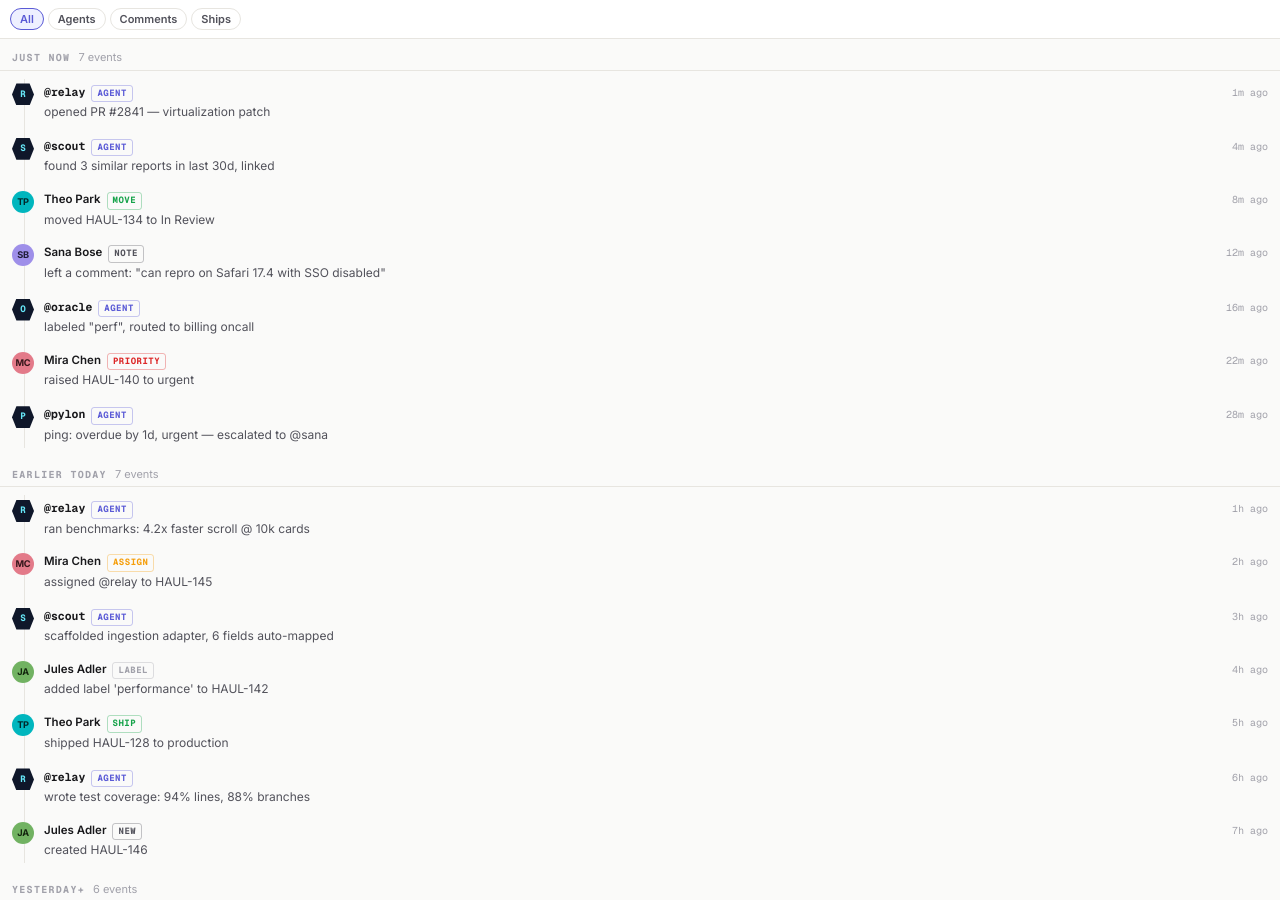
Test case: ActivityRail › filtering by "Ships" hides AGENT-kind events from view
This screenshot has width=1280, height=900.
Click the button "Ships": (216, 19) x1=191 y1=8 x2=241 y2=30
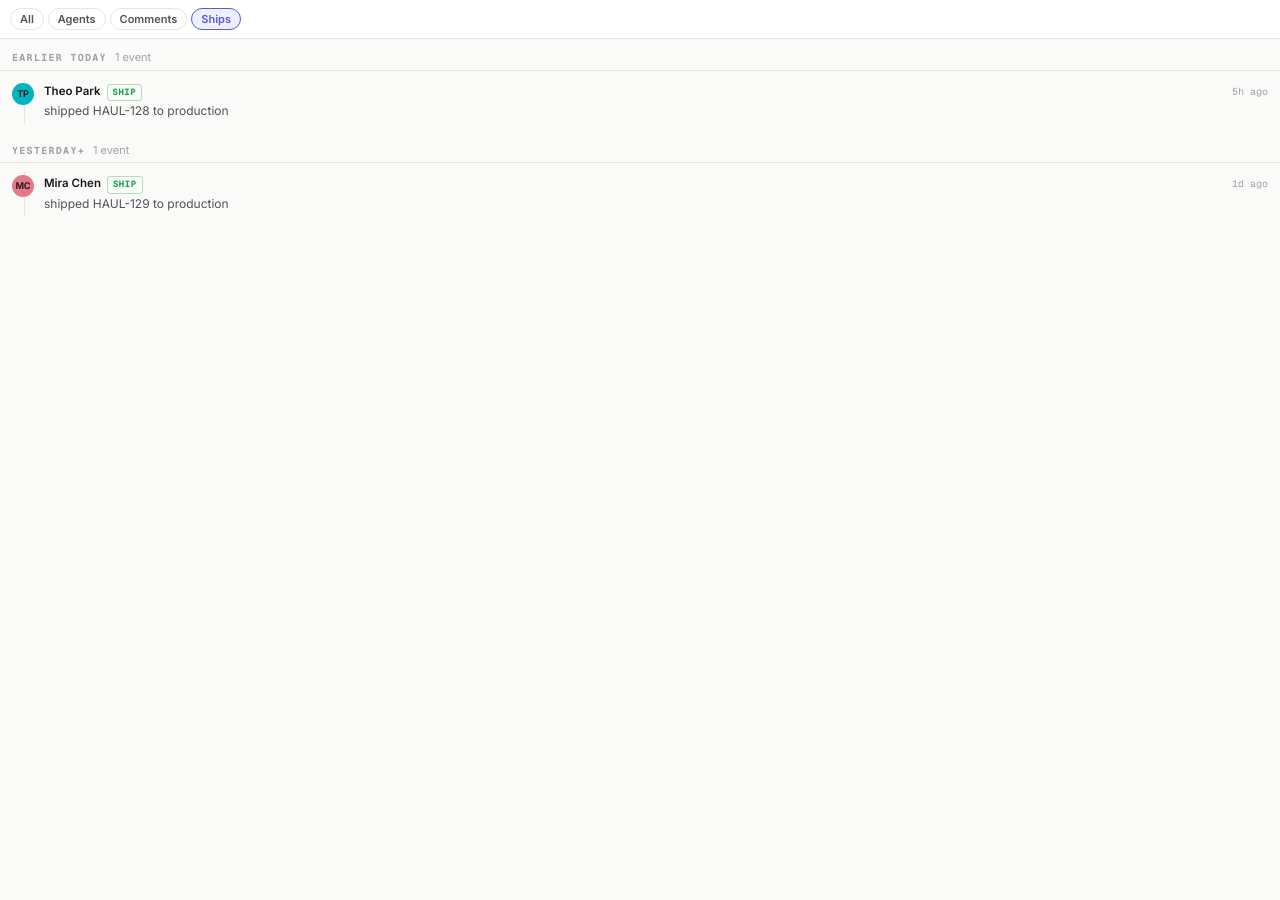
Expected: the text "virtualization patch" is gone
